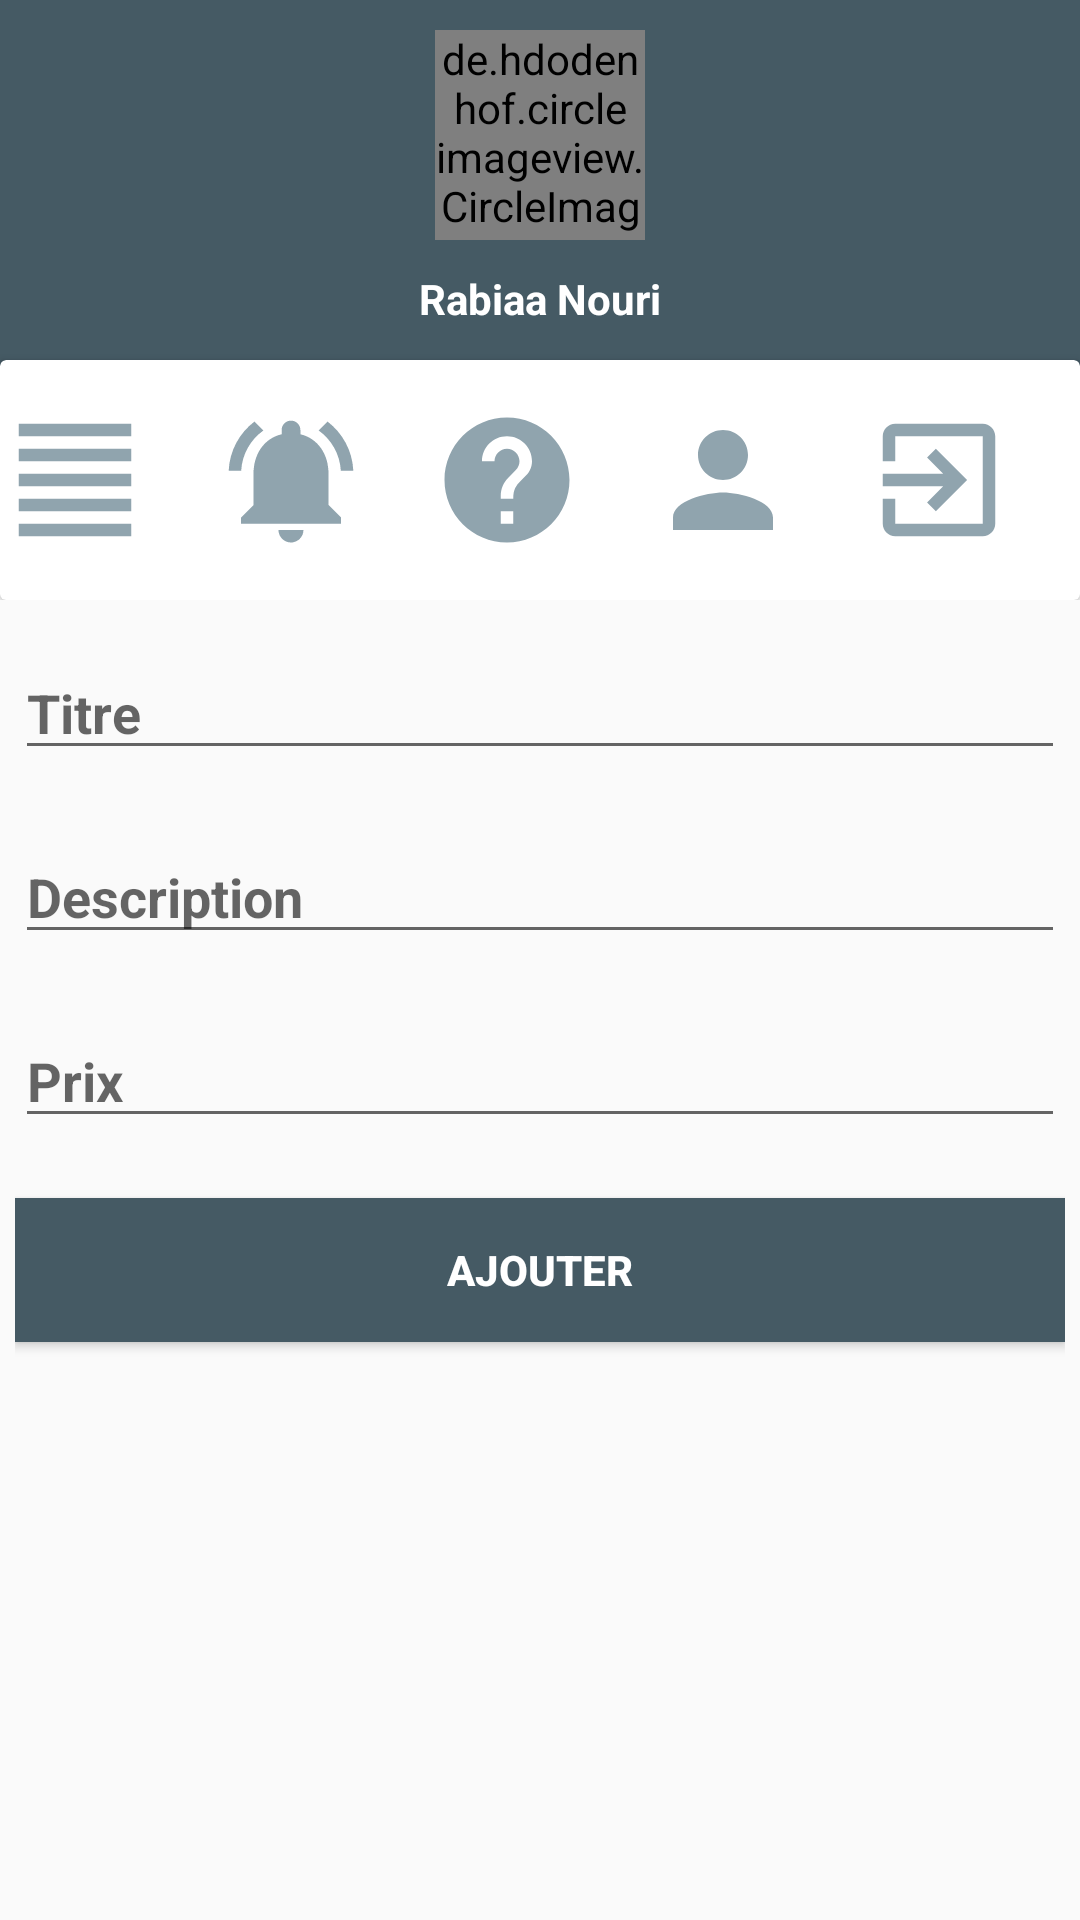

Screen size 1080px×1920px. Icon name, then its box in pixels as [x1, y1, x2, y2]:
exit: [882, 423, 996, 537]
help: [444, 417, 570, 543]
menus: [0, 423, 132, 600]
notifications: [228, 420, 354, 543]
person: [673, 430, 773, 530]
